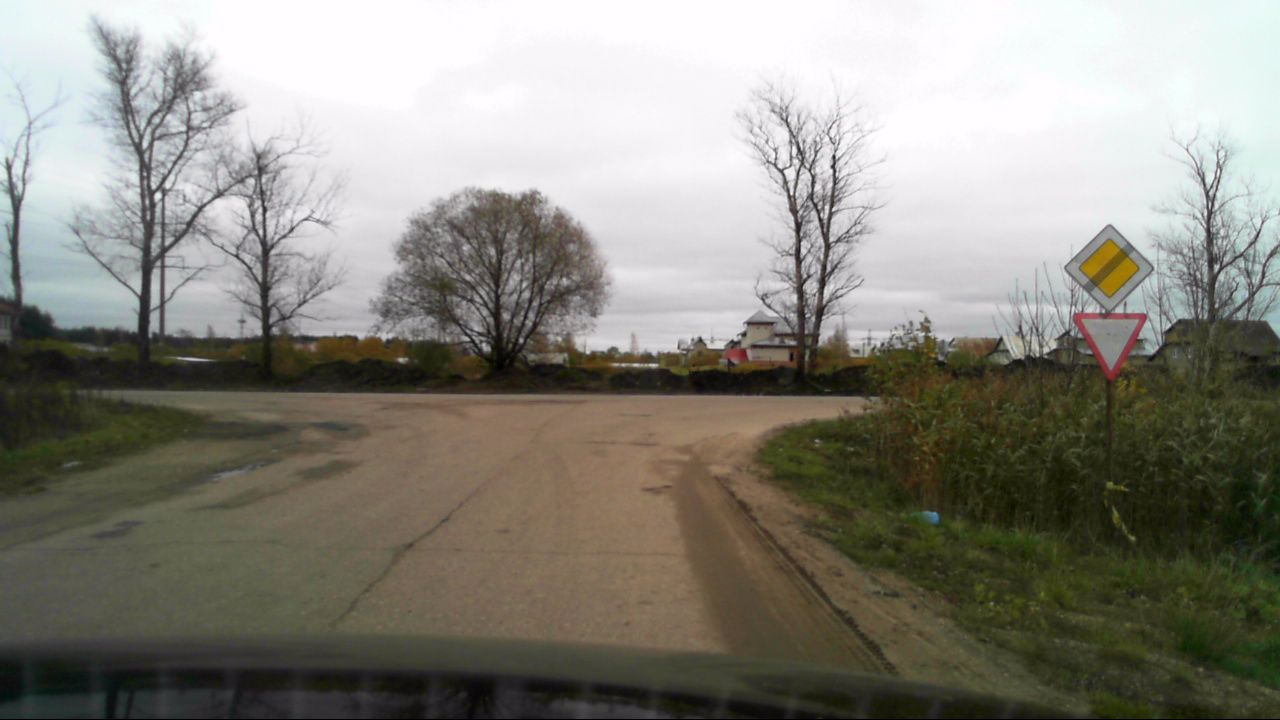main road: (1064, 224, 1154, 313)
